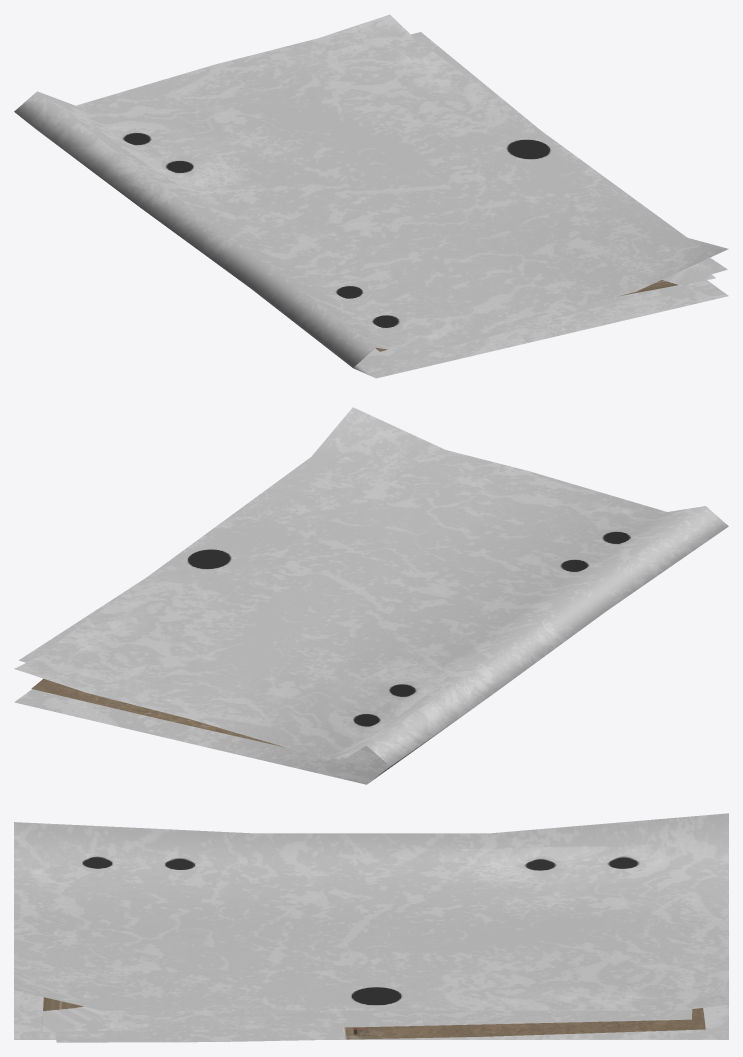
The model's file is SM_File_Pocket2.fbx.
3 views of the same model, one above another, from view 1: azimuth 30°, elevation 25°; view 2: azimuth 150°, elevation 25°; view 3: azimuth 270°, elevation 25° (orthographic). The views are drawn at different scales.
Parts seen in each view (by area): view 1: SM_File_Pocket2_LOD0; view 2: SM_File_Pocket2_LOD0; view 3: SM_File_Pocket2_LOD0.
Part boxes in pixels (<box>): SM_File_Pocket2_LOD0: <box>14,14,728,378</box>; SM_File_Pocket2_LOD0: <box>14,407,728,784</box>; SM_File_Pocket2_LOD0: <box>14,813,728,1042</box>.
Size of the model in its own units: 31.73 by 47.11 by 3.61.
1 material, 1 textured.
